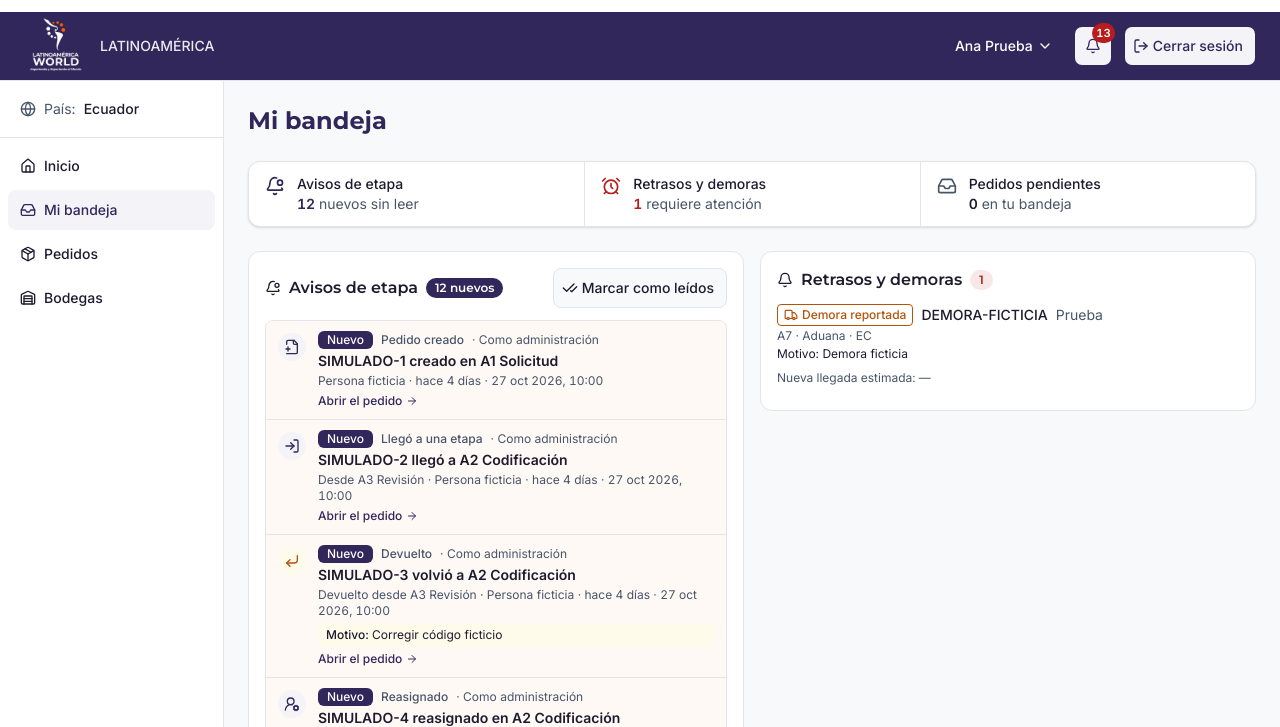
Test case: Avisos ADR-0032: campana y bandeja con API MSW › 12 ejemplos: contador suma no leídos y demoras; menú muestra los mismos primeros seis y enlaces
Expected: the text "13" is shown, x1=1092 y1=23 x2=1115 y2=43
Click the button named "Notificaciones:". click: [1093, 46]
box: x1=1074 y1=26 x2=1112 y2=66
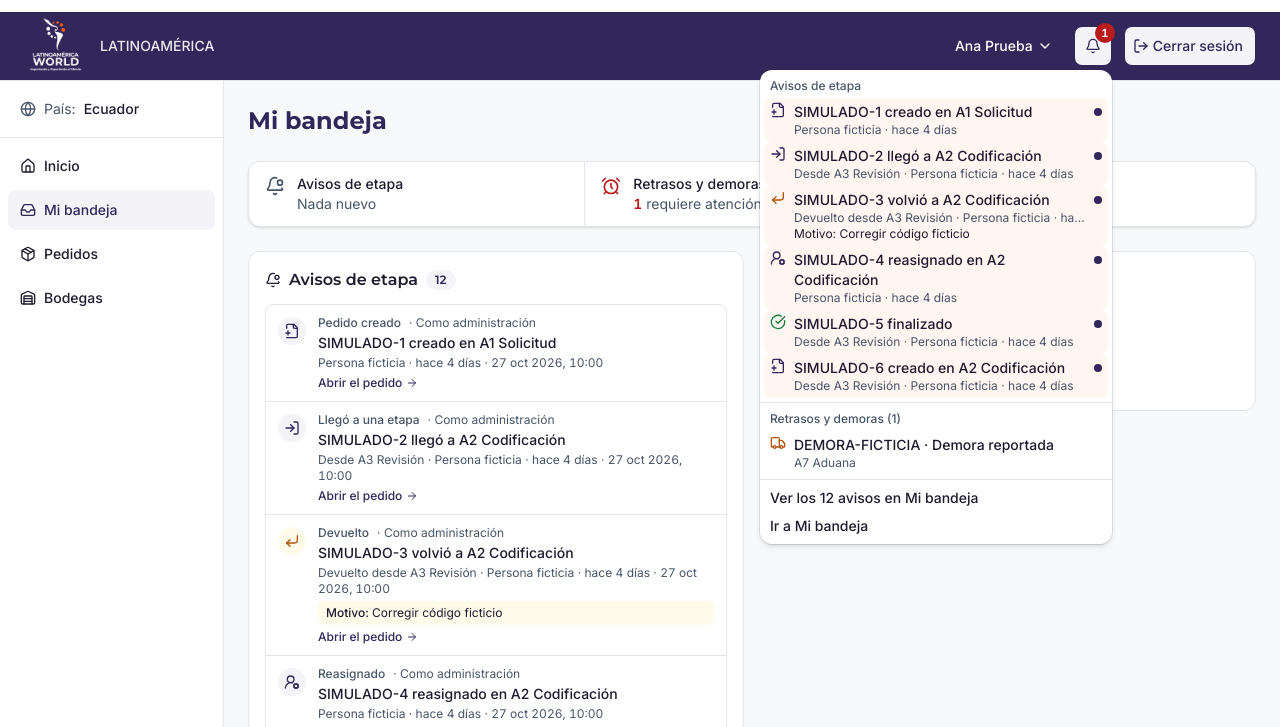
Now the 1st text "Avisos de etapa" is shown, box x1=770 y1=78 x2=861 y2=93
Now the text "Retrasos y demoras (1)" is shown, box x1=770 y1=411 x2=901 y2=426
